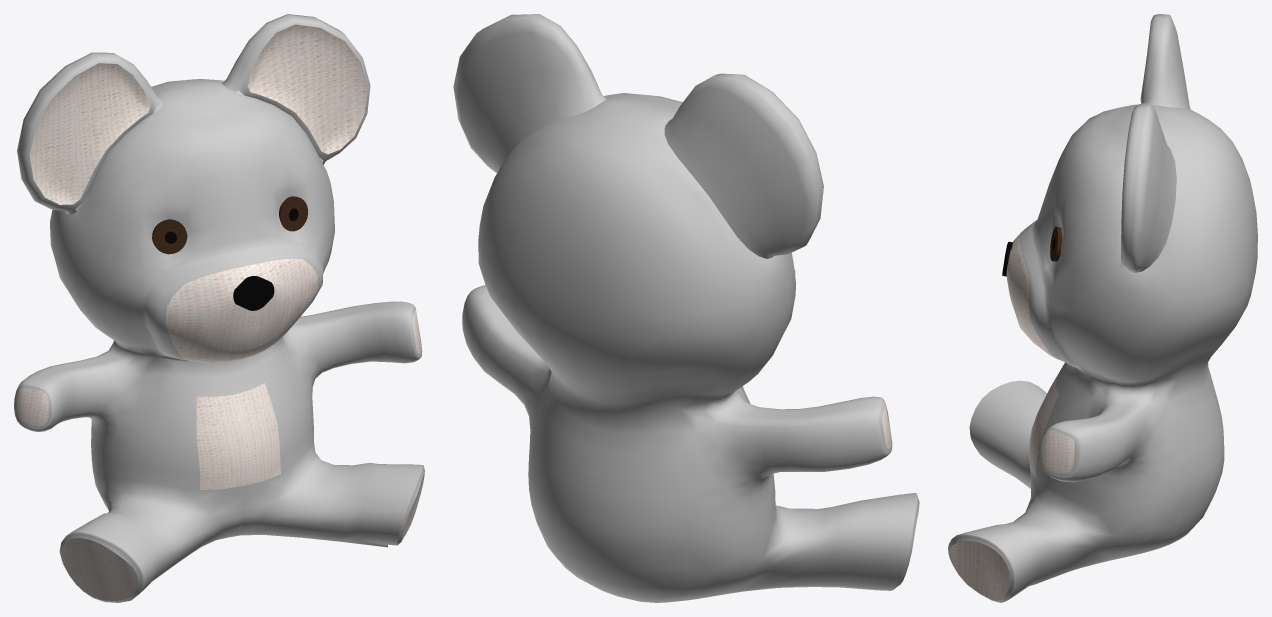
The model's file is Teddy bear.fbx.
3 views of the same model, side by side, from view 1: azimuth 30°, elevation 25°; view 2: azimuth 150°, elevation 25°; view 3: azimuth 270°, elevation 25° (orthographic). The views are drawn at different scales.
Visible parts, largest first — view 1: Teddy bear; view 2: Teddy bear; view 3: Teddy bear.
Part boxes in pixels (bbox=[...]): Teddy bear: bbox=[14, 14, 424, 602]; Teddy bear: bbox=[453, 14, 919, 602]; Teddy bear: bbox=[948, 14, 1257, 602].
Size of the model in its own units: 334 by 402 by 235.
